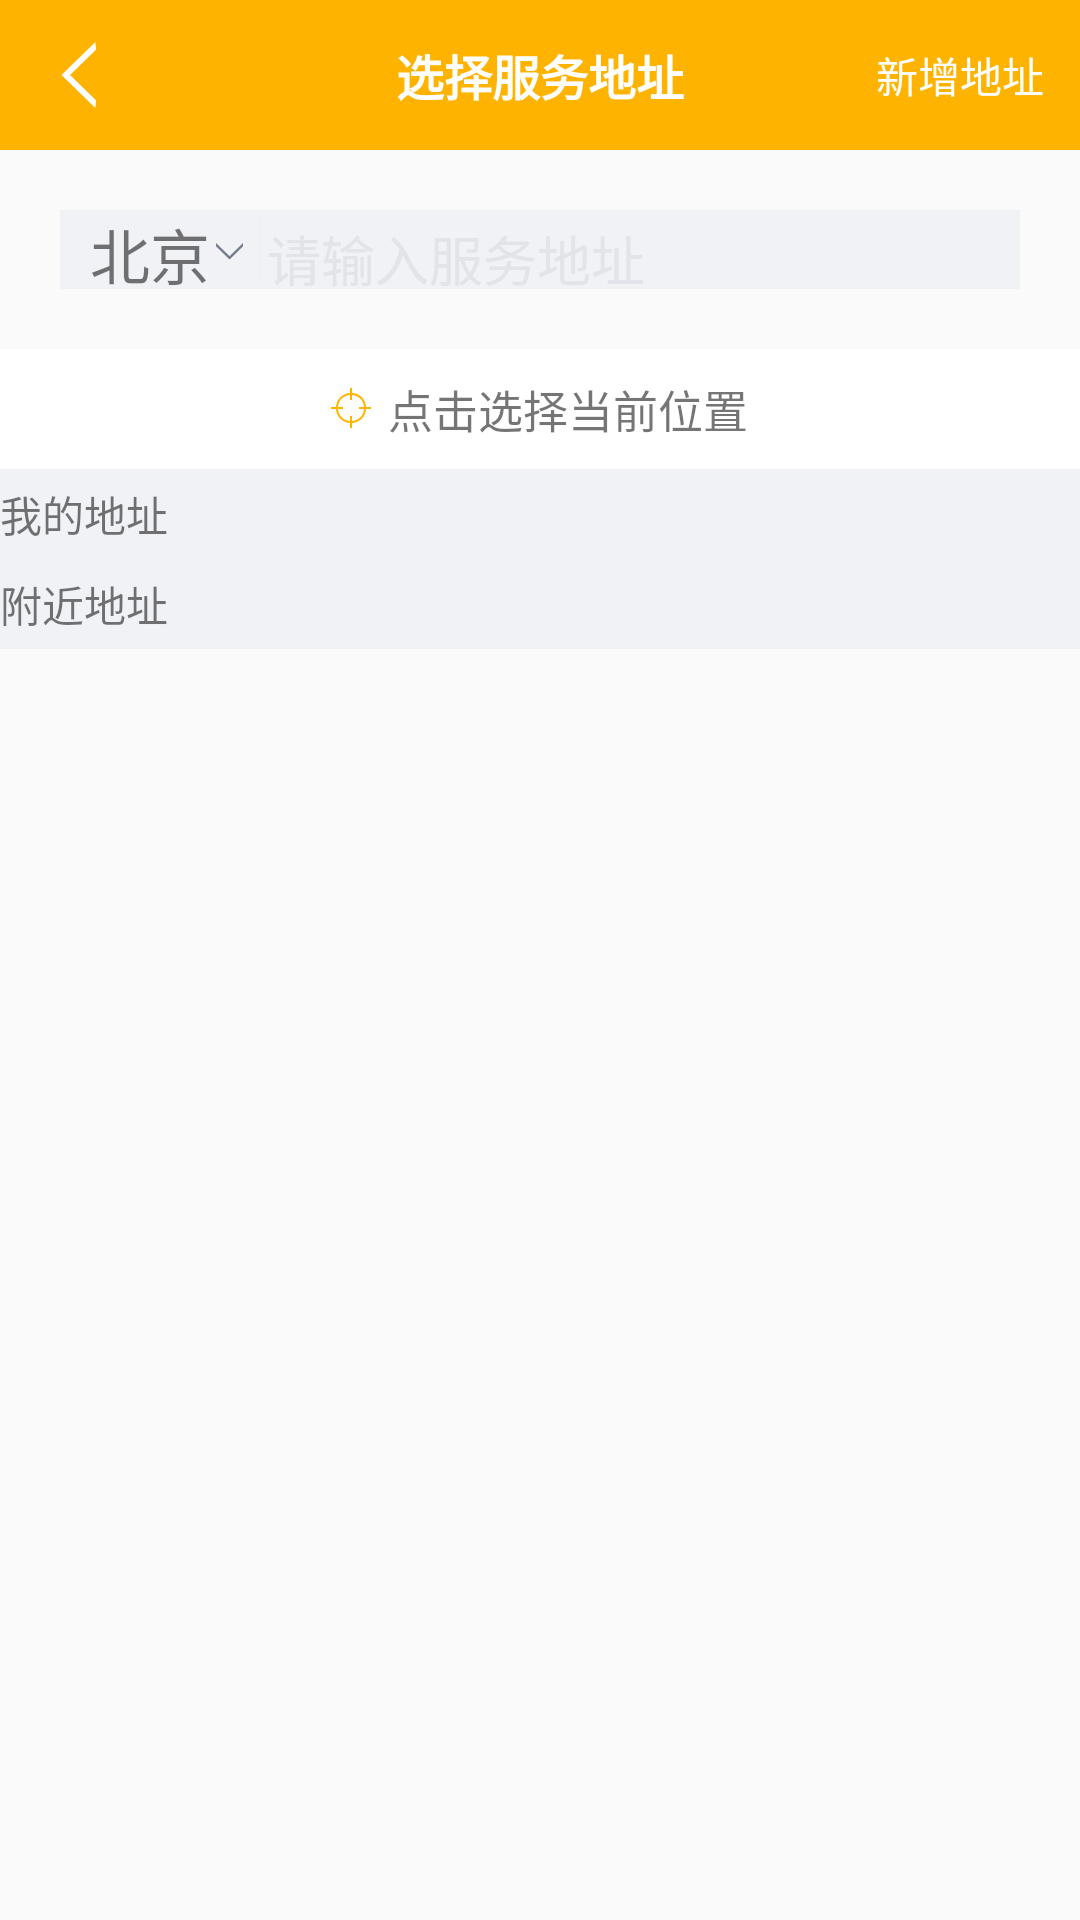

Named icons in this screenshot (1080px×1920px) and their centers, (x=x, y=y):
back: (x=78, y=75)
page dingwei: (x=351, y=408)
